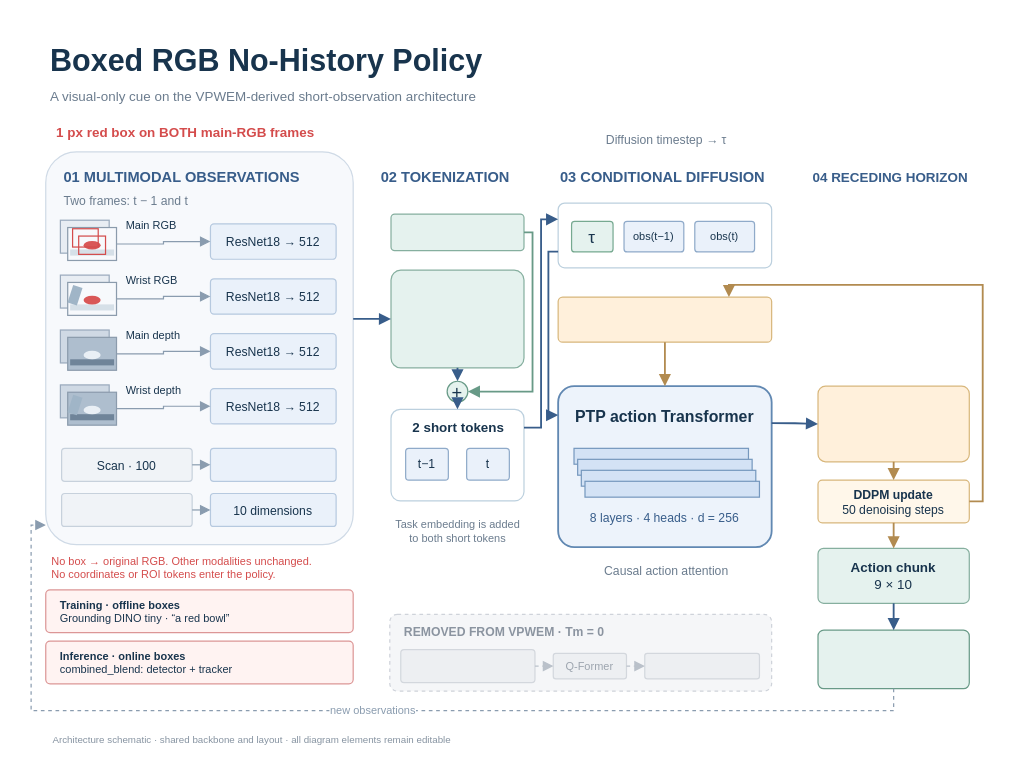
Image size: 1017x773. Some labels were removed from this diagram. The shapes that lost their labels are listed below. From the top down, each one's centre as x and y in pixels, then its label:
the point at 457,232: Task ID (5) → Embedding
the point at 457,318: Per-frame fusion Concat · 2122 MLP → 256
the point at 664,319: Noisy action chunk xₖ · 9 × 10
the point at 893,423: Predict noise εθ · 9 × 10
the point at 272,464: ScanCore → 64
the point at 126,509: Proprioception
the point at 467,665: Observation + summary caches
the point at 701,665: 2 episodic tokens
the point at 893,659: Execute 8 steps Observe and replan
